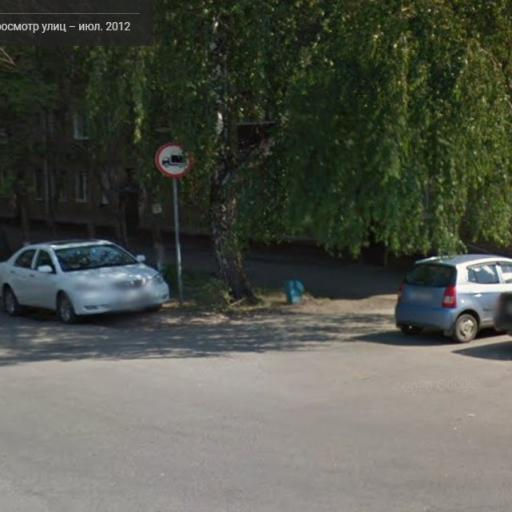traffic_sign: (153, 135, 197, 183)
